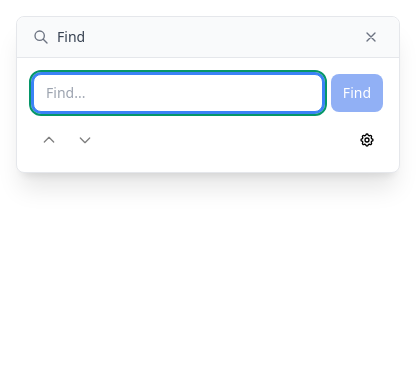
Test case: FindReplaceDialog › Search Options › should toggle options panel visibility
Expected: the text "Match case" is not shown
Click the 5th button. click: click(367, 140)
box: [351, 124, 383, 156]
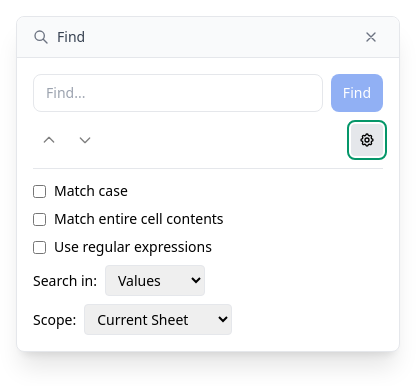
Expected: the text "Match case" is shown, [33, 181, 128, 200]
